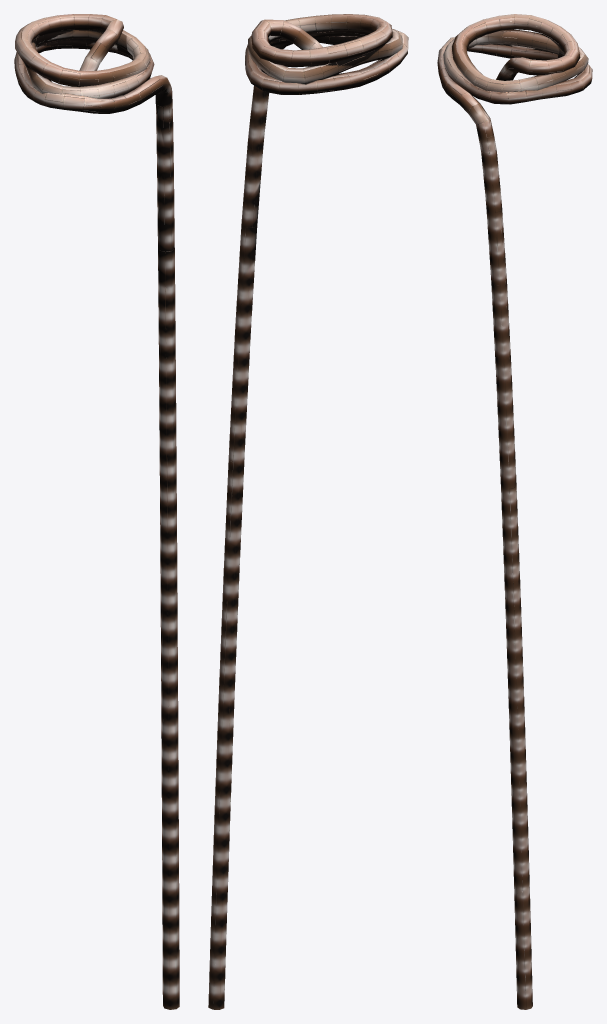
The model's file is rope.gltf.
The picture shows the model from 3 angles, left to right: view 1: azimuth 30°, elevation 25°; view 2: azimuth 150°, elevation 25°; view 3: azimuth 270°, elevation 25°; orthographic projection. The views are drawn at different scales.
Parts seen in each view (by area): view 1: Cylinder; view 2: Cylinder; view 3: Cylinder.
Boxes of the visible parts, <box> form: Cylinder: <box>14,14,179,1009</box>; Cylinder: <box>208,14,408,1009</box>; Cylinder: <box>437,14,592,1009</box>.
Bounding box in the file's own units: 11.15 × 63.52 × 9.64.
Materials: 1 (1 with a texture image).
